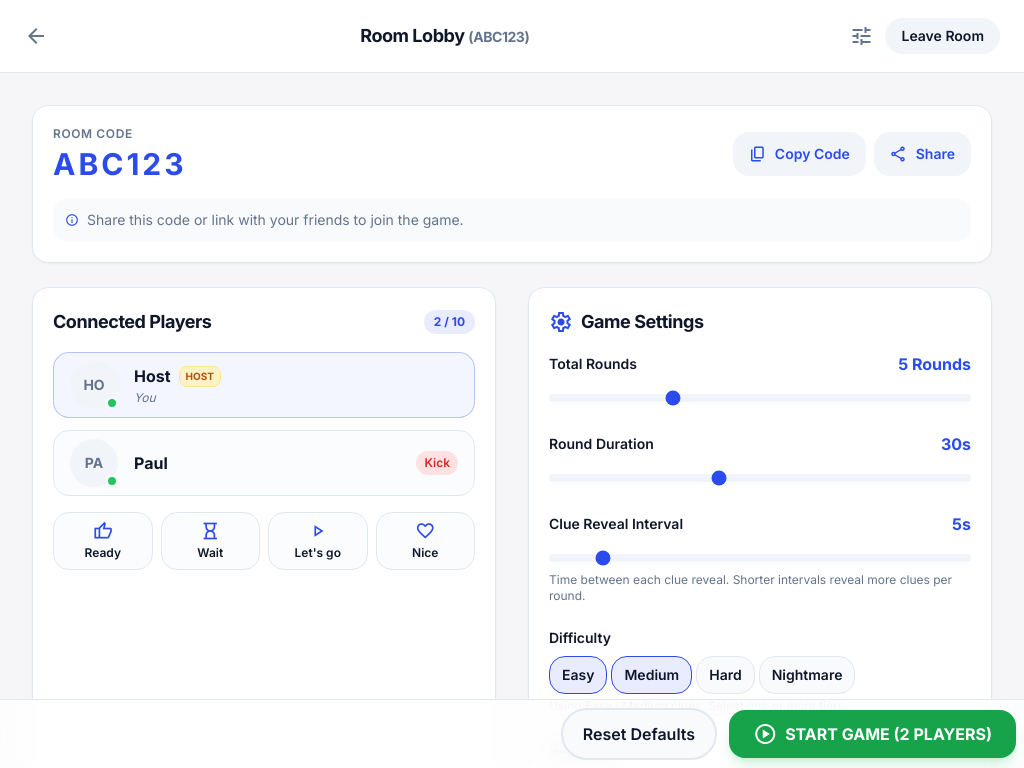
it: Lobby › shows copied feedback after copying the invite link when share is unavailable
The width and height of the screenshot is (1024, 768).
Click the button titled "Share invite".
click(922, 154)  # box [874,132,971,176]
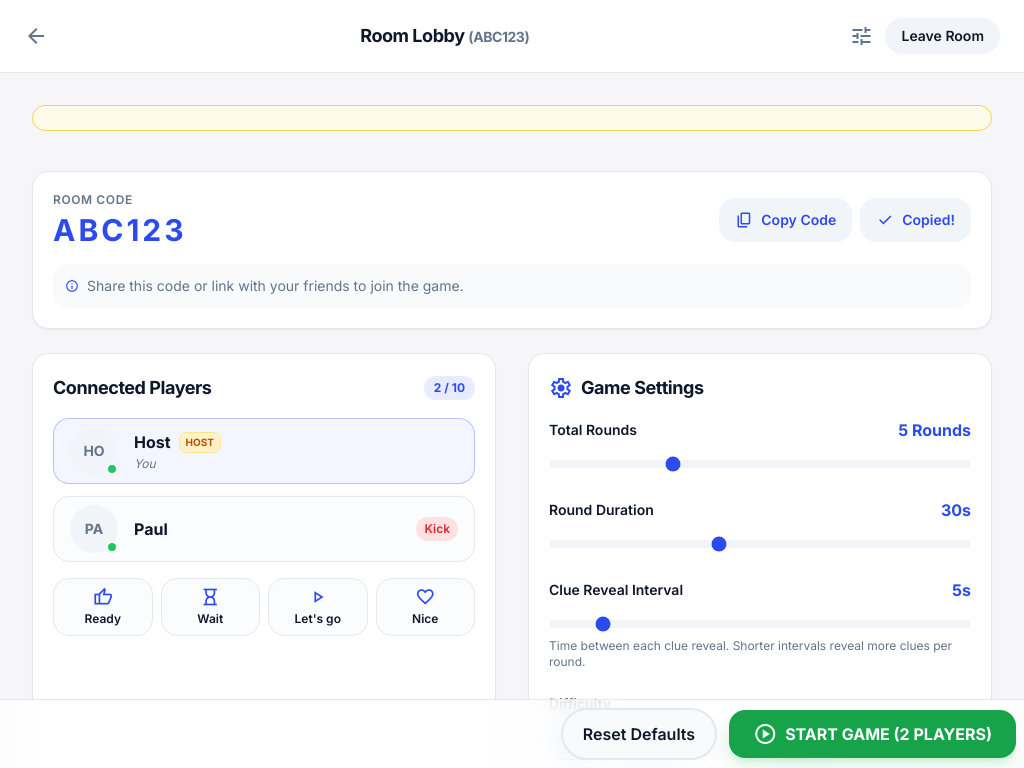
Now the text "Copied!" is shown, box [902,210,955,230]
